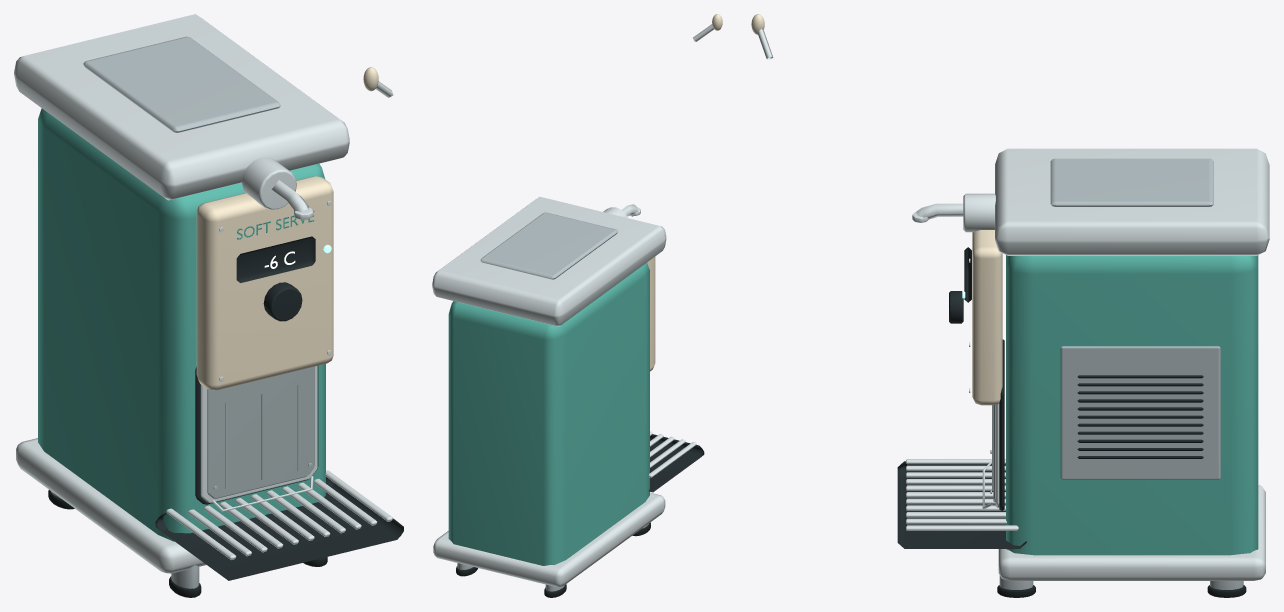
The model's file is ice_cream_machine.glb.
The picture shows the model from 3 angles, left to right: view 1: azimuth 30°, elevation 25°; view 2: azimuth 150°, elevation 25°; view 3: azimuth 270°, elevation 25°; orthographic projection. The views are drawn at different scales.
Visible parts, largest first — view 1: Soft serve rounded shell, Top chrome lid, Soft | inset porcelain face, Soft V3 | recessed satin liner, Hopper lid, Soft | catch tray, Bottom chrome plinth, Soft | temperature display, Soft | upper valve mount, Soft V3 | folded liner rim, Soft | lever pivot, Soft V3 | liner shadow gap (+13 smaller); view 2: Soft serve rounded shell, Top chrome lid, Hopper lid, Bottom chrome plinth, Soft | catch tray, Soft | inset porcelain face; view 3: Soft serve rounded shell, Top chrome lid, Right cooling panel, Hopper lid, Bottom chrome plinth, Soft | inset porcelain face, Soft | catch tray, Soft | upper valve mount, Soft V3 | liner shadow gap, Soft | removable grate bar.009, Soft | removable grate bar.010.
Boxes of the visible parts, x1,y1,x2,y2 form: Soft serve rounded shell: (38,108,325,541); Top chrome lid: (14,14,349,200); Soft | inset porcelain face: (196,176,333,390); Soft V3 | recessed satin liner: (207,366,314,498); Hopper lid: (83,36,280,132); Soft | catch tray: (155,477,403,580); Bottom chrome plinth: (16,438,206,573); Soft | temperature display: (236,236,315,282); Soft | upper valve mount: (242,157,296,209); Soft V3 | folded liner rim: (200,366,317,503); Soft | lever pivot: (263,282,302,321); Soft V3 | liner shadow gap: (195,366,318,504); Soft serve rounded shell: (448,262,649,565); Top chrome lid: (432,196,666,326); Hopper lid: (480,212,617,279); Bottom chrome plinth: (433,492,665,586); Soft | catch tray: (649,434,704,492); Soft | inset porcelain face: (647,256,655,371); Soft serve rounded shell: (1006,255,1258,555); Top chrome lid: (995,148,1269,255); Right cooling panel: (1060,346,1220,479); Hopper lid: (1050,158,1213,206); Bottom chrome plinth: (998,485,1265,580); Soft | inset porcelain face: (972,230,1002,405); Soft | catch tray: (897,461,1026,548); Soft | upper valve mount: (963,193,995,232); Soft V3 | liner shadow gap: (999,339,1004,510); Soft | removable grate bar.009: (906,518,1006,524); Soft | removable grate bar.010: (906,525,1018,530).
Bounding box in the file's own units: 0.253 × 0.8048 × 0.698.
10 materials, 2 textured.
